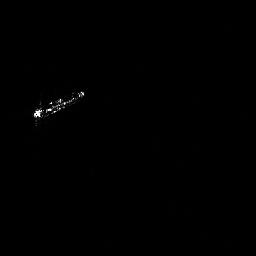ship: (28, 87, 90, 123)
